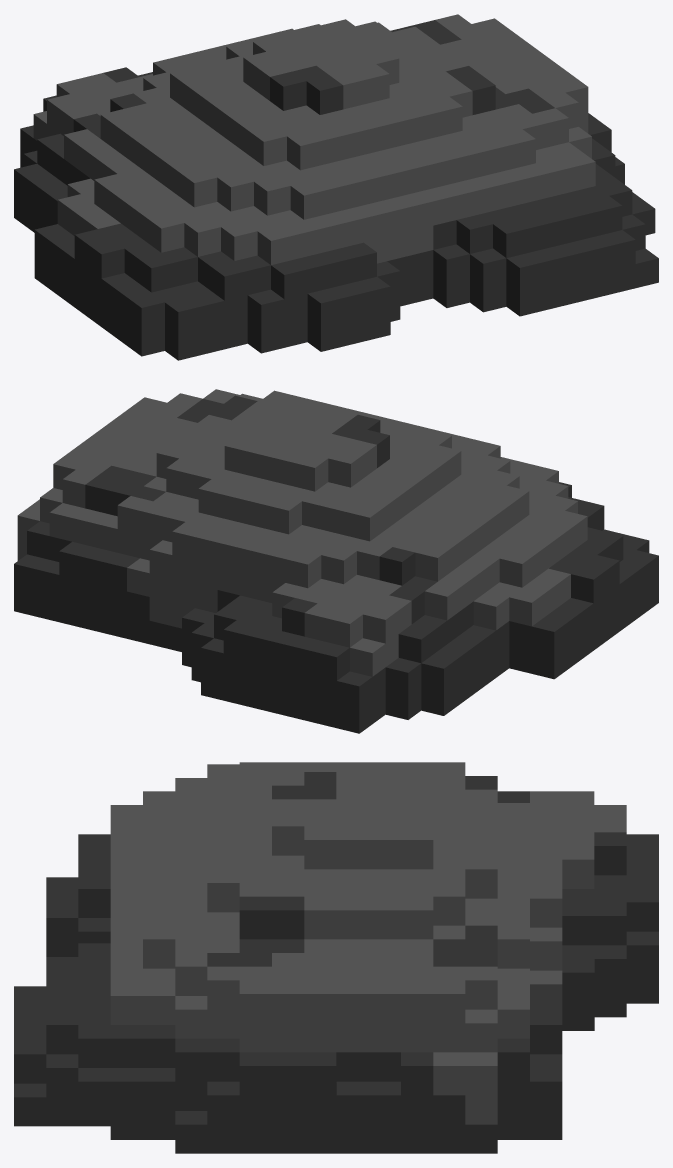
Rendered from rock_0.glb.
3 renders of one model, top to bottom at view 1: azimuth 30°, elevation 25°; view 2: azimuth 150°, elevation 25°; view 3: azimuth 270°, elevation 25°, orthographic. The views are drawn at different scales.
Parts seen in each view (by area): view 1: rock_0; view 2: rock_0; view 3: rock_0.
Part boxes in pixels (x1,y1,x2,y2): rock_0: [14, 14, 658, 360]; rock_0: [14, 389, 658, 733]; rock_0: [14, 762, 658, 1153].
Bounding box in the file's own units: 2.2 × 0.7 × 2.
1 material, 1 textured.
